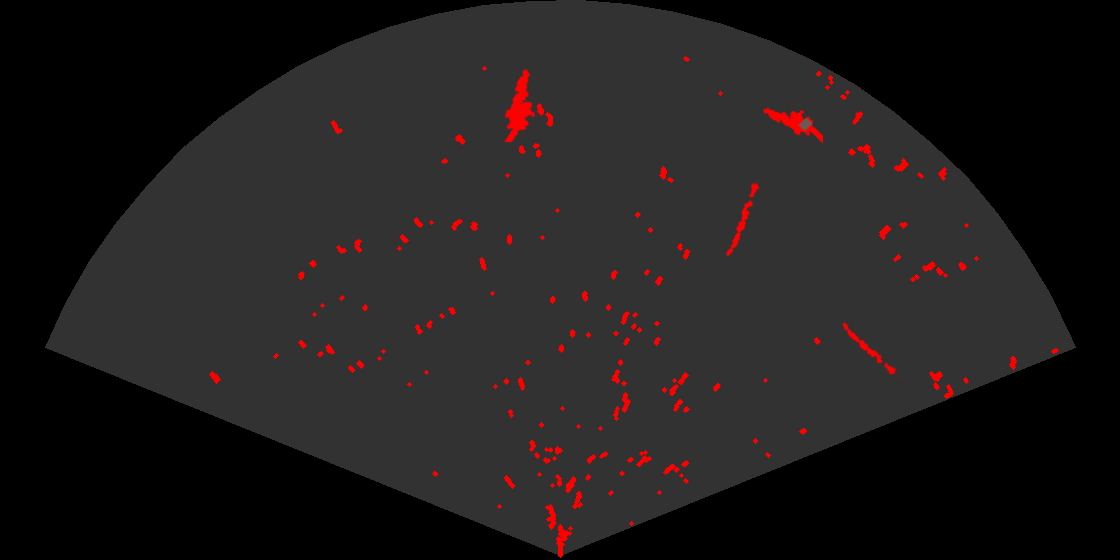chain: (841, 321, 901, 381), (724, 179, 761, 259)
frogman: (503, 67, 537, 142), (761, 106, 823, 145)
